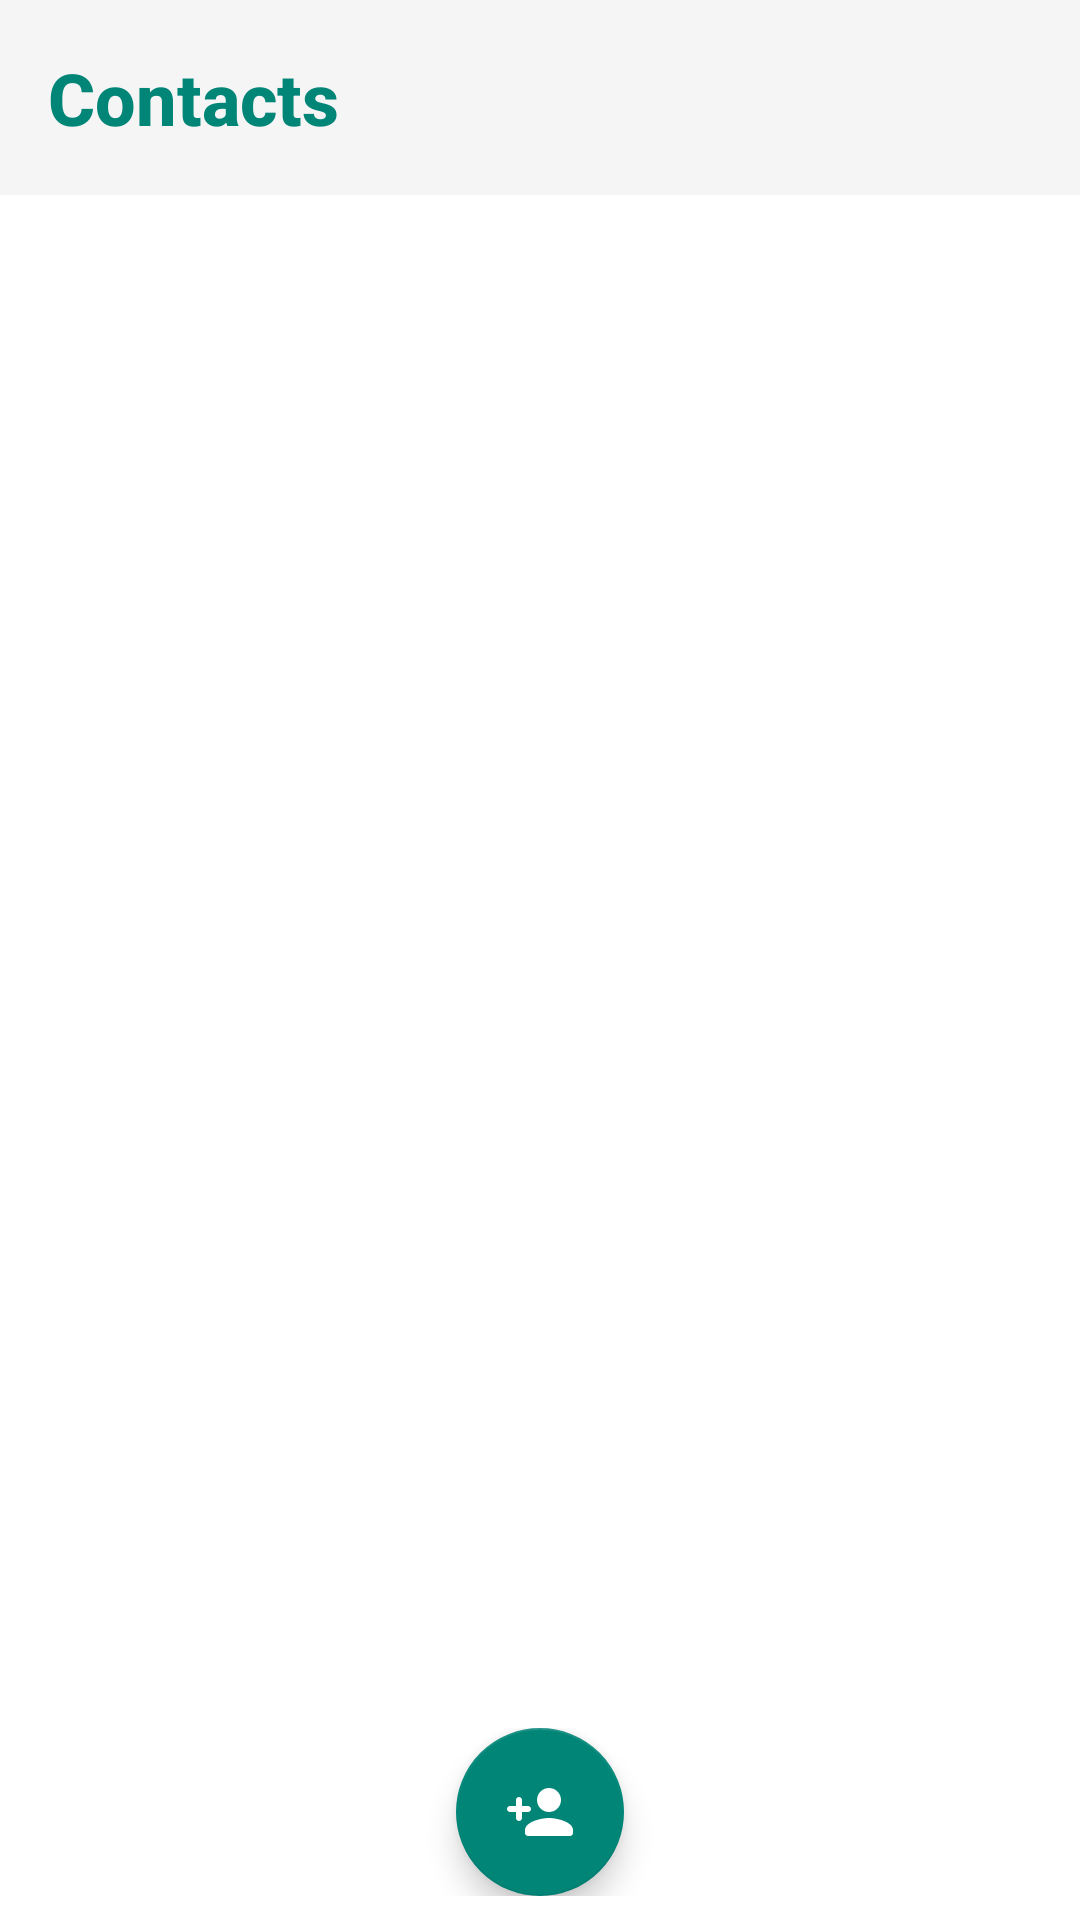

Screen size 1080px×1920px. Icon name, then its center in pixels as (x,y):
person add: (540,1812)
